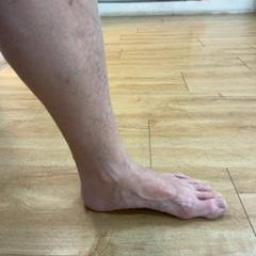Medial View -Left Foot-: (64, 143, 242, 238)
